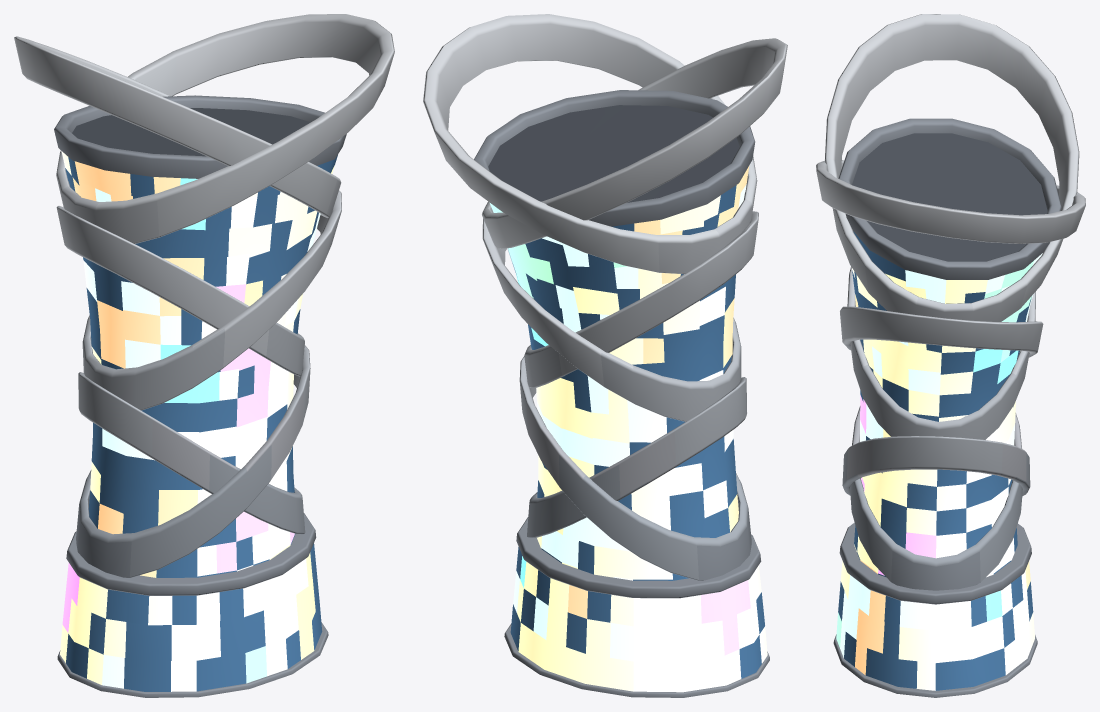
The model's file is torre_torcida_fitas_pacote.glb.
3 renders of one model, left to right at view 1: azimuth 30°, elevation 25°; view 2: azimuth 150°, elevation 25°; view 3: azimuth 270°, elevation 25°, orthographic. The views are drawn at different scales.
Visible parts, largest first — view 1: torre_torcida_fitas_pacote; view 2: torre_torcida_fitas_pacote; view 3: torre_torcida_fitas_pacote.
Boxes of the visible parts, x1=… form: torre_torcida_fitas_pacote: x1=14, y1=14, x2=394, y2=697; torre_torcida_fitas_pacote: x1=423, y1=14, x2=787, y2=697; torre_torcida_fitas_pacote: x1=816, y1=14, x2=1085, y2=697.
Size of the model in its own units: 28 by 49.82 by 21.45.
Materials: 8 (1 with a texture image).
